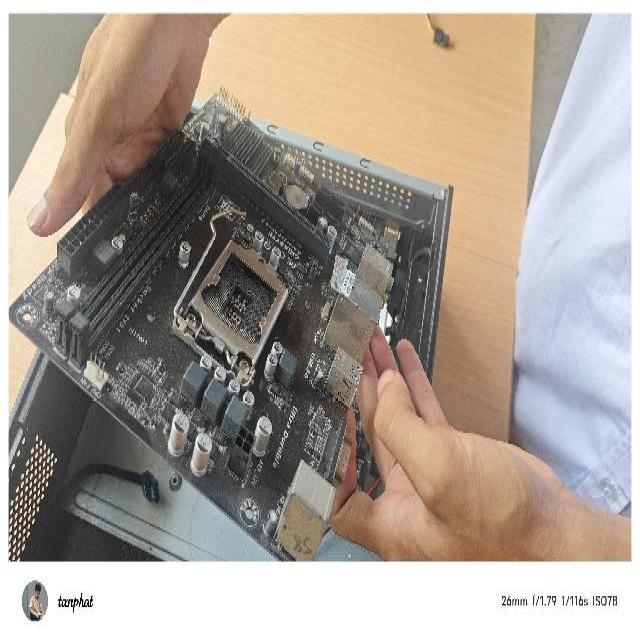Mainboard: (0, 81, 395, 524)
